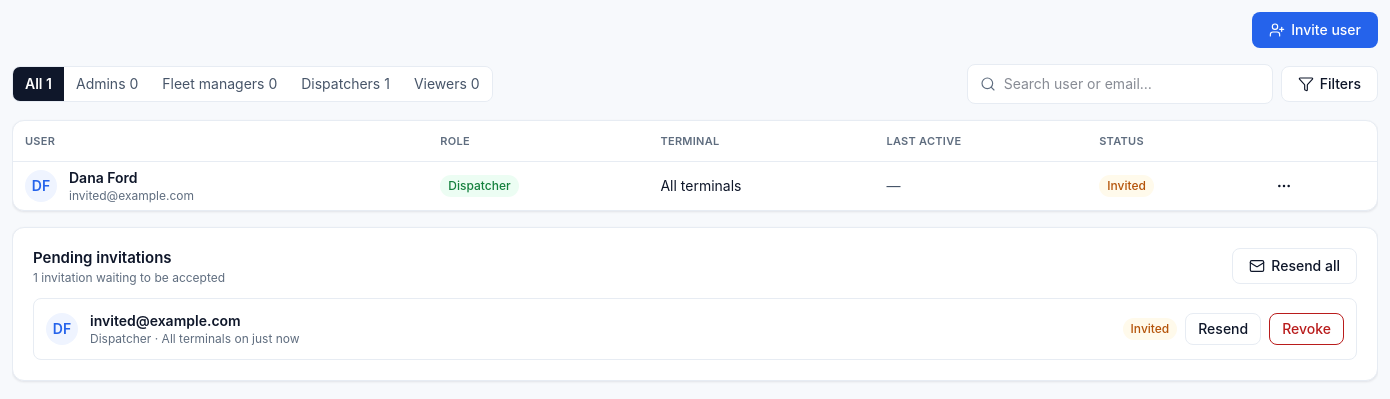
Scenario: UsersPage — W-18 › warns instead of claiming success when the resent invitation could not be emailed
The image size is (1390, 399).
Check: the heading "Pending invitations" is shown, box [33,248,172,266]
What coordinates should you click on to do the following:
click the button "Resend"
I would click on:
 (1223, 328)
Its box is [1185,312,1261,344].
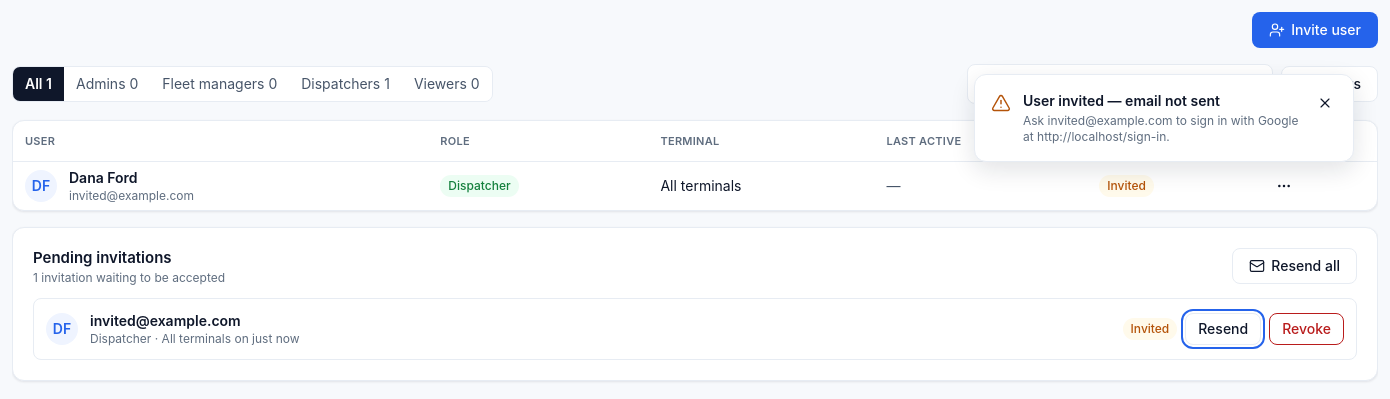
Check: the text "User invited — email not sent" is shown, box [1023,92,1220,109]
